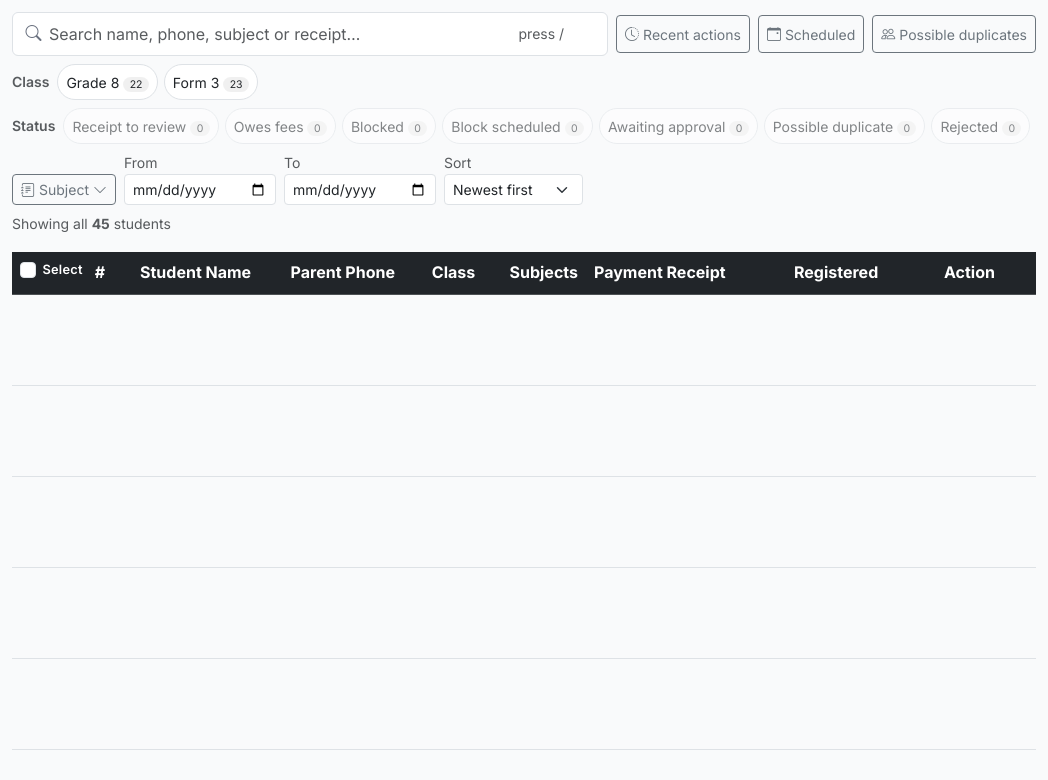
Scenario: the header box and "select all matching" › selects the 20 on this page, then offers all 45 matching
Click the checkbox named "Select all students on this page".
click(28, 270)  # box [20, 262, 36, 278]
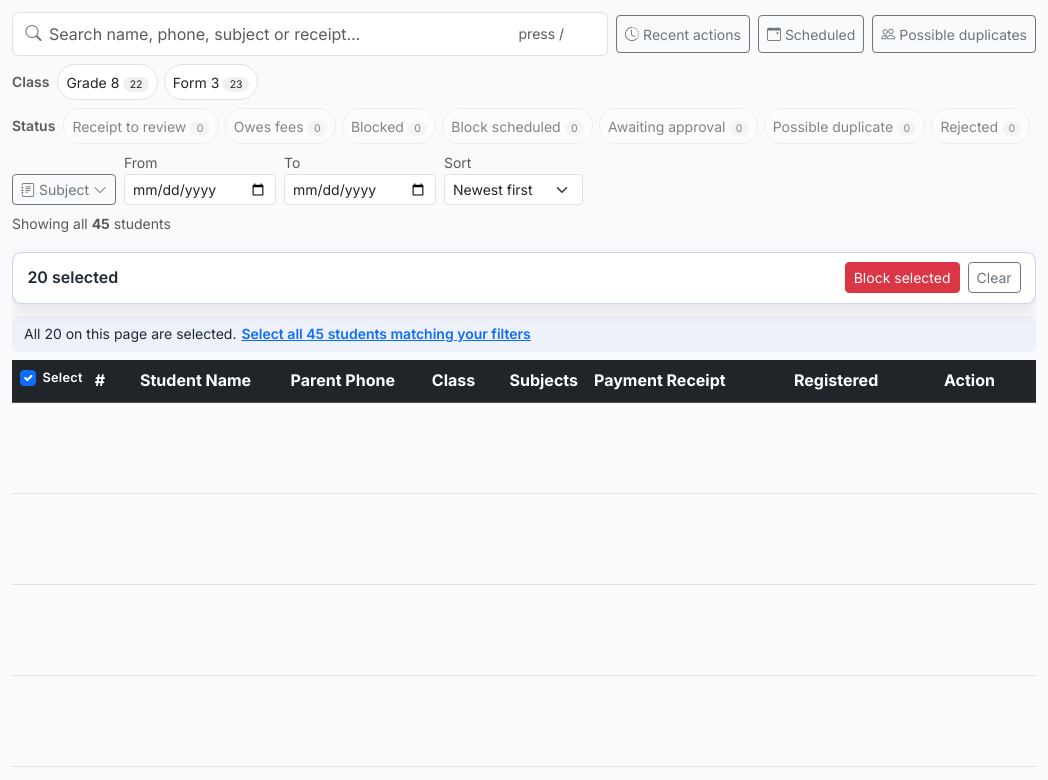
Now the element named "Selected students" shows "20 selected", box [12, 252, 1036, 304]
Now the element with test id "select-all-matching" shows "All 20 on this page are selected", box [12, 316, 1036, 352]
Click the button "Select all 45 students matching your filters".
click(386, 334)  # box [240, 322, 532, 345]
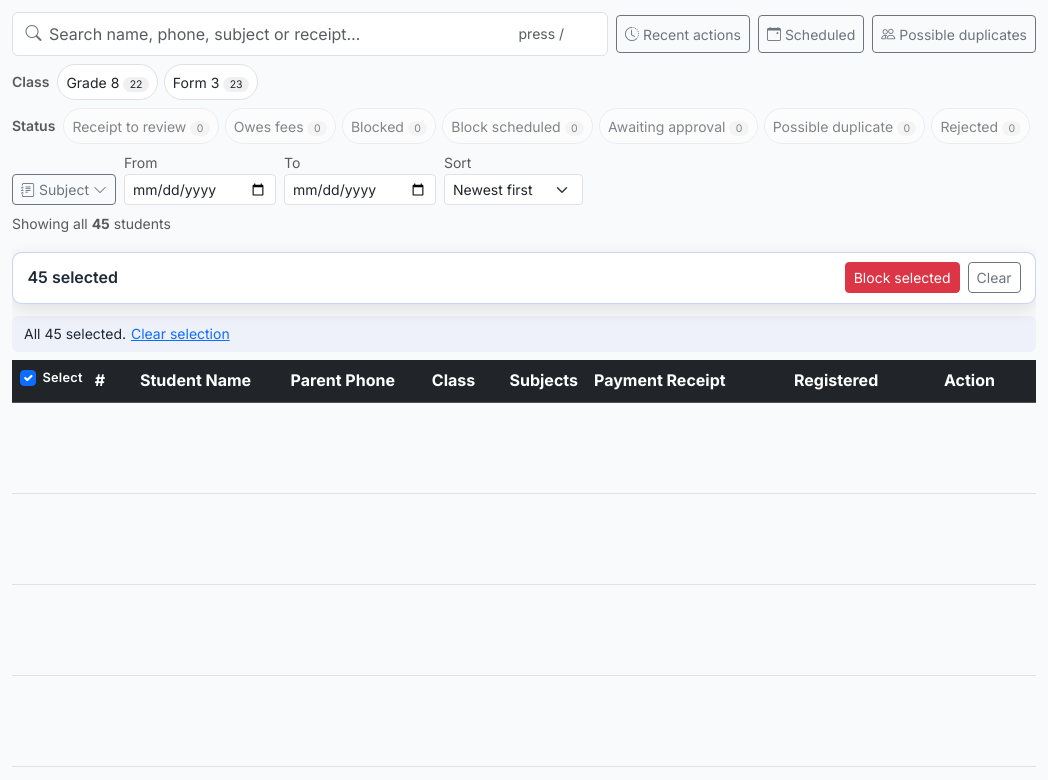
Now the element named "Selected students" shows "45 selected", box [12, 252, 1036, 304]
Now the element with test id "select-all-matching" shows "All 45 selected", box [12, 316, 1036, 352]
